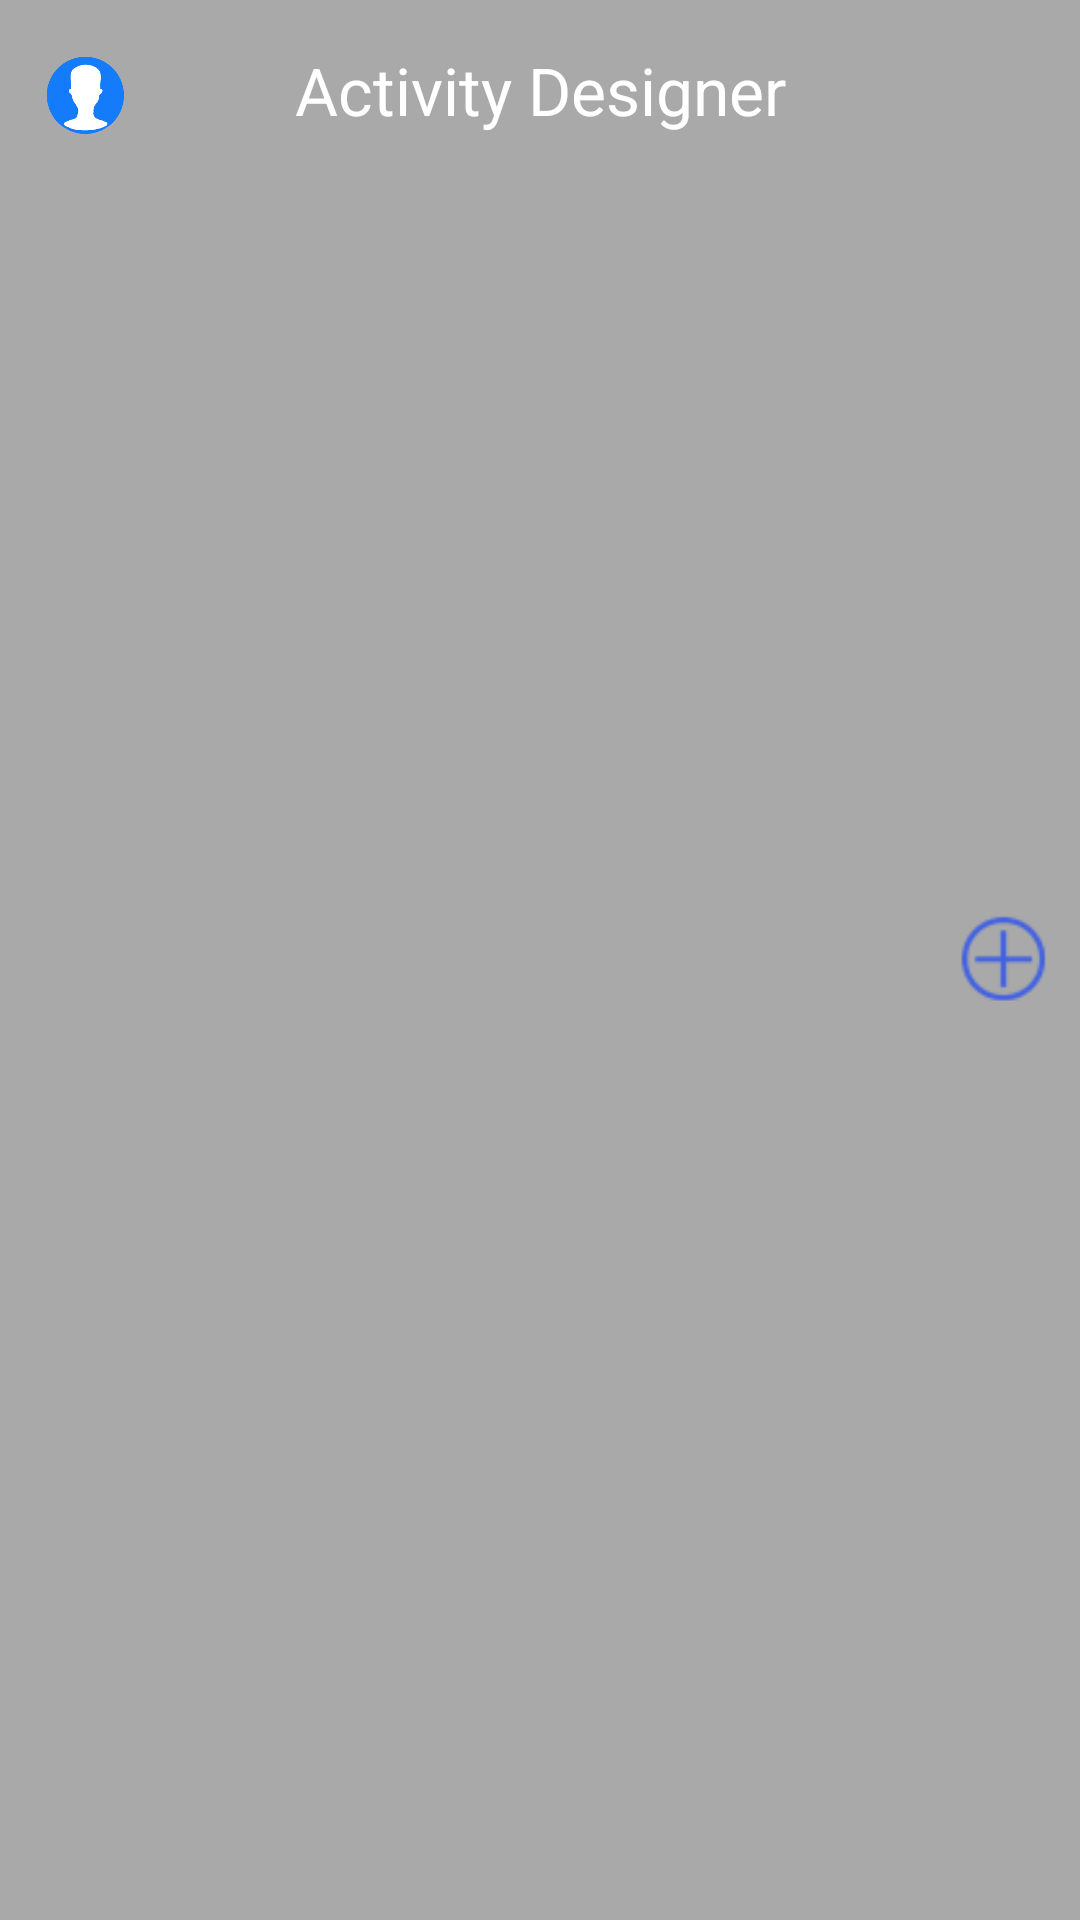

Where icons sit on this 1080w x 1920h app screen, as (x1, y1, x2, y2):
add: (961, 917, 1045, 1001)
left profile: (47, 57, 124, 134)
